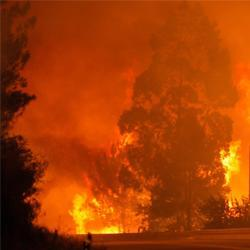fire: (75, 195, 127, 236), (223, 148, 239, 186)
